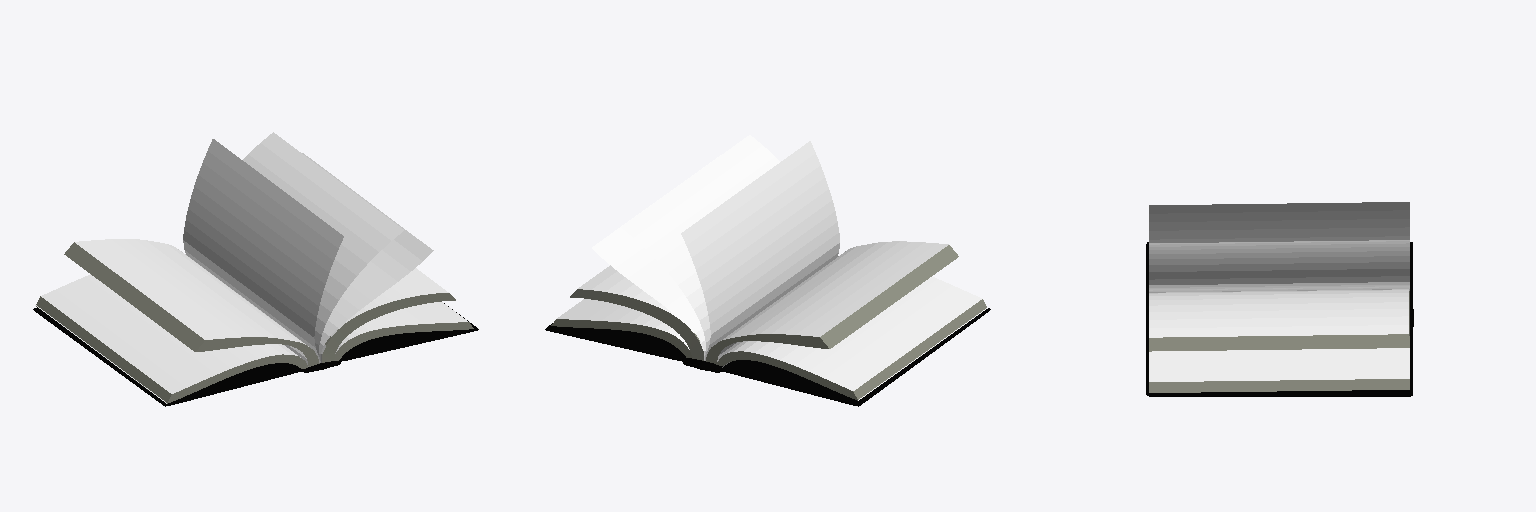
File: book.obj
3 renders of one model, left to right at view 1: azimuth 30°, elevation 25°; view 2: azimuth 150°, elevation 25°; view 3: azimuth 270°, elevation 25°, orthographic.
Parts seen in each view (by area): view 1: Mesh_1, Mesh_2, Mesh_4, Mesh_3, Mesh_0; view 2: Mesh_1, Mesh_2, Mesh_4, Mesh_3, Mesh_0; view 3: Mesh_1, Mesh_3, Mesh_2, Mesh_4, Mesh_0.
Boxes of the visible parts, <box> form: Mesh_1: <box>35,153,467,403</box>; Mesh_2: <box>183,139,343,362</box>; Mesh_4: <box>36,242,473,403</box>; Mesh_3: <box>243,132,403,362</box>; Mesh_0: <box>33,303,478,406</box>; Mesh_1: <box>557,155,987,400</box>; Mesh_2: <box>681,141,839,360</box>; Mesh_4: <box>551,245,986,400</box>; Mesh_3: <box>621,135,779,360</box>; Mesh_0: <box>545,308,990,406</box>; Mesh_1: <box>1149,282,1409,381</box>; Mesh_3: <box>1149,240,1409,284</box>; Mesh_2: <box>1149,202,1409,242</box>; Mesh_4: <box>1149,291,1409,392</box>; Mesh_0: <box>1146,242,1413,396</box>.
Bounding box in the file's own units: 5.22 × 2.05 × 3.85.